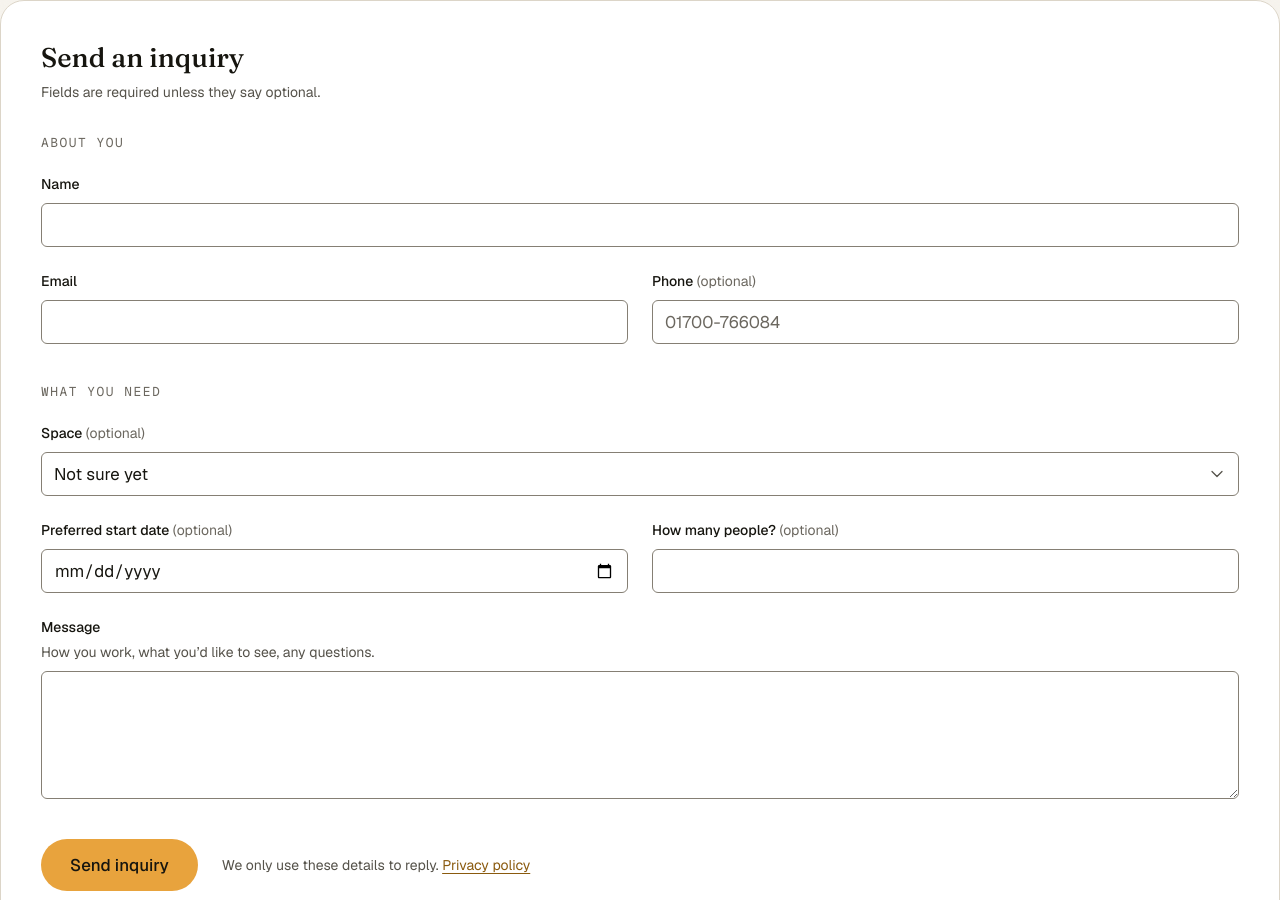
Scenario: InquiryCard › says to check the connection when the request itself fails
Type "Nadia Rahman" into the field labelled "Name" at (640, 225), box [41,203,1239,247]
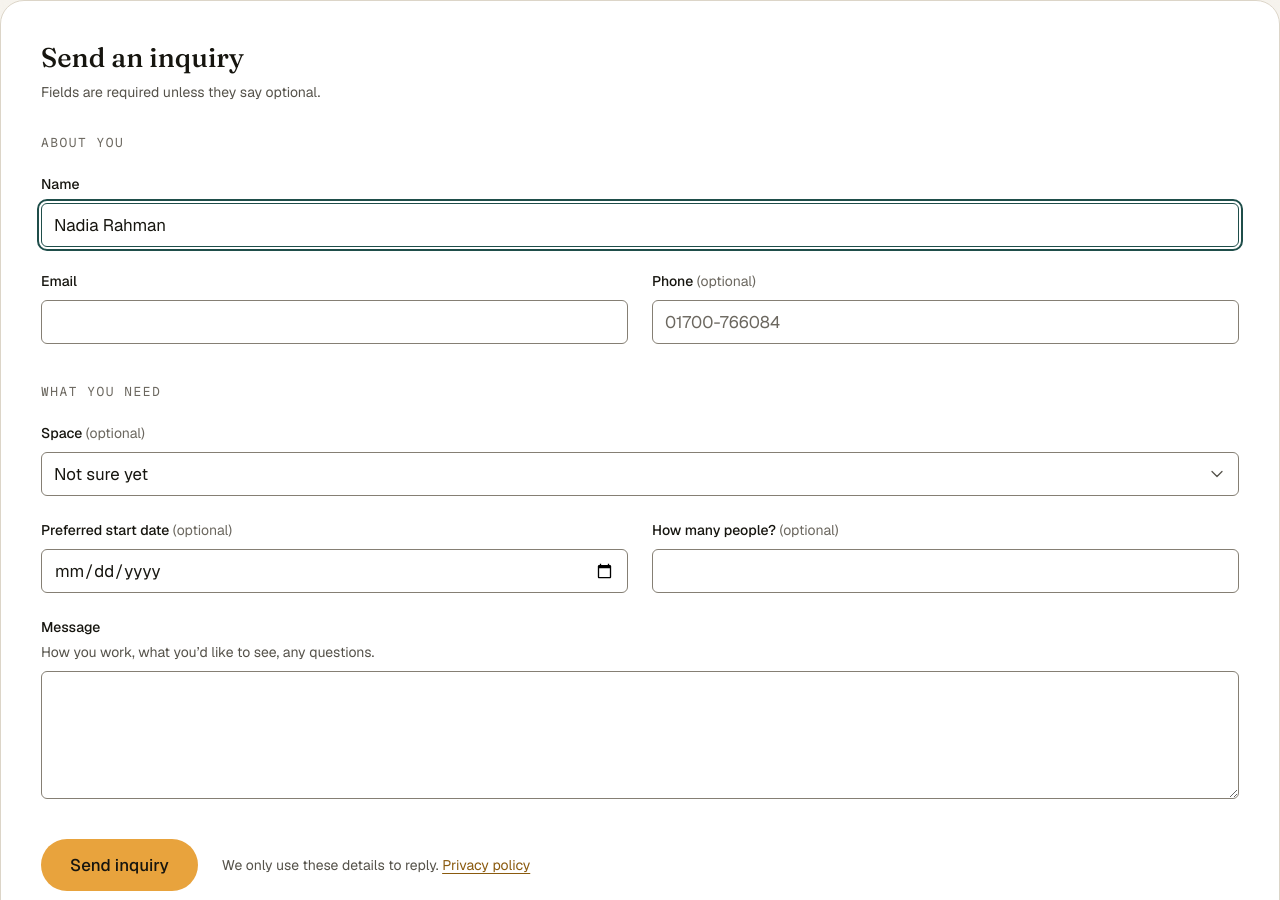
Type "nadia@example.com" into the field labelled "Email" at (334, 322), box [41,300,628,344]
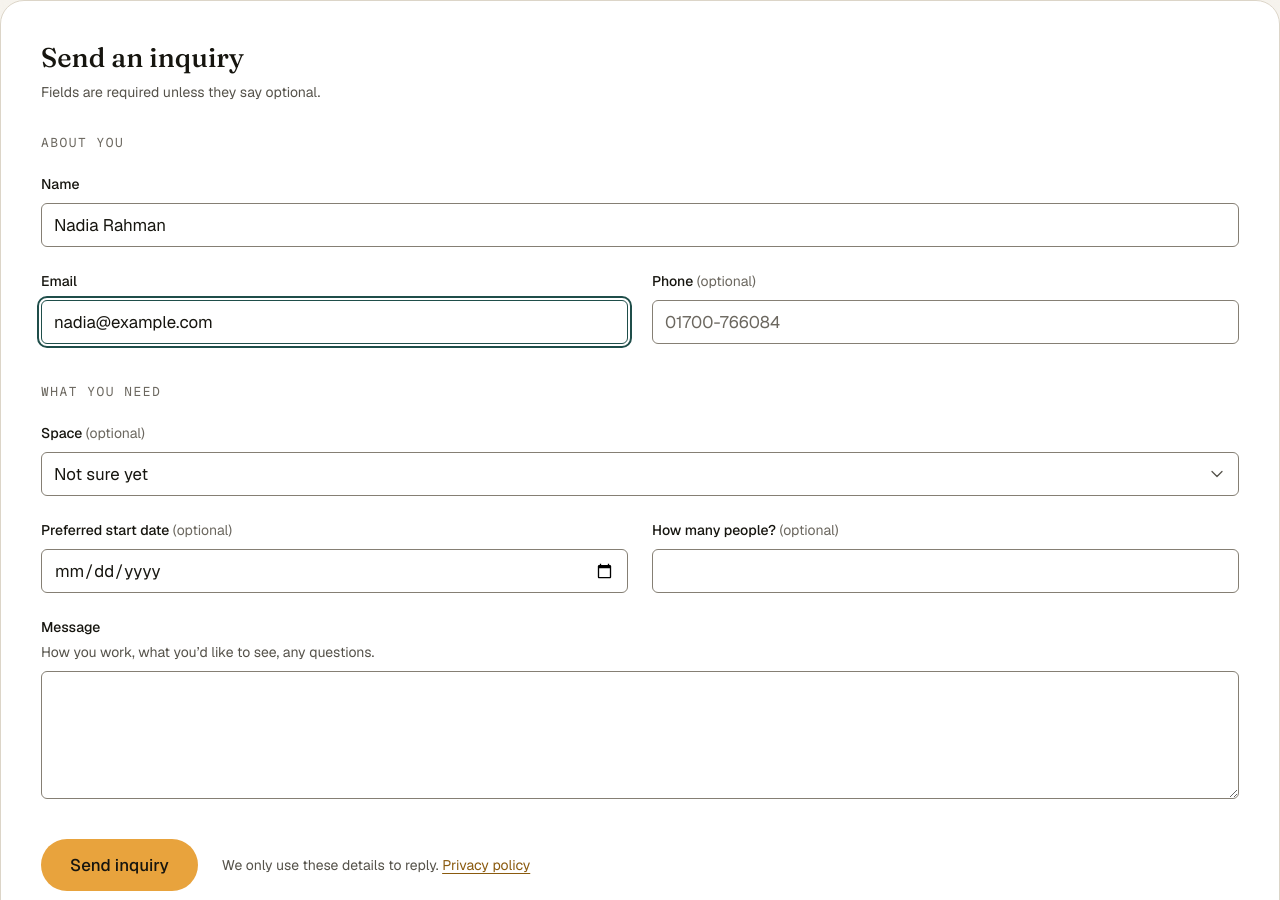
Type "Looking for a room on Monday." into the text box labelled "Message" at (640, 735), box [41,671,1239,799]
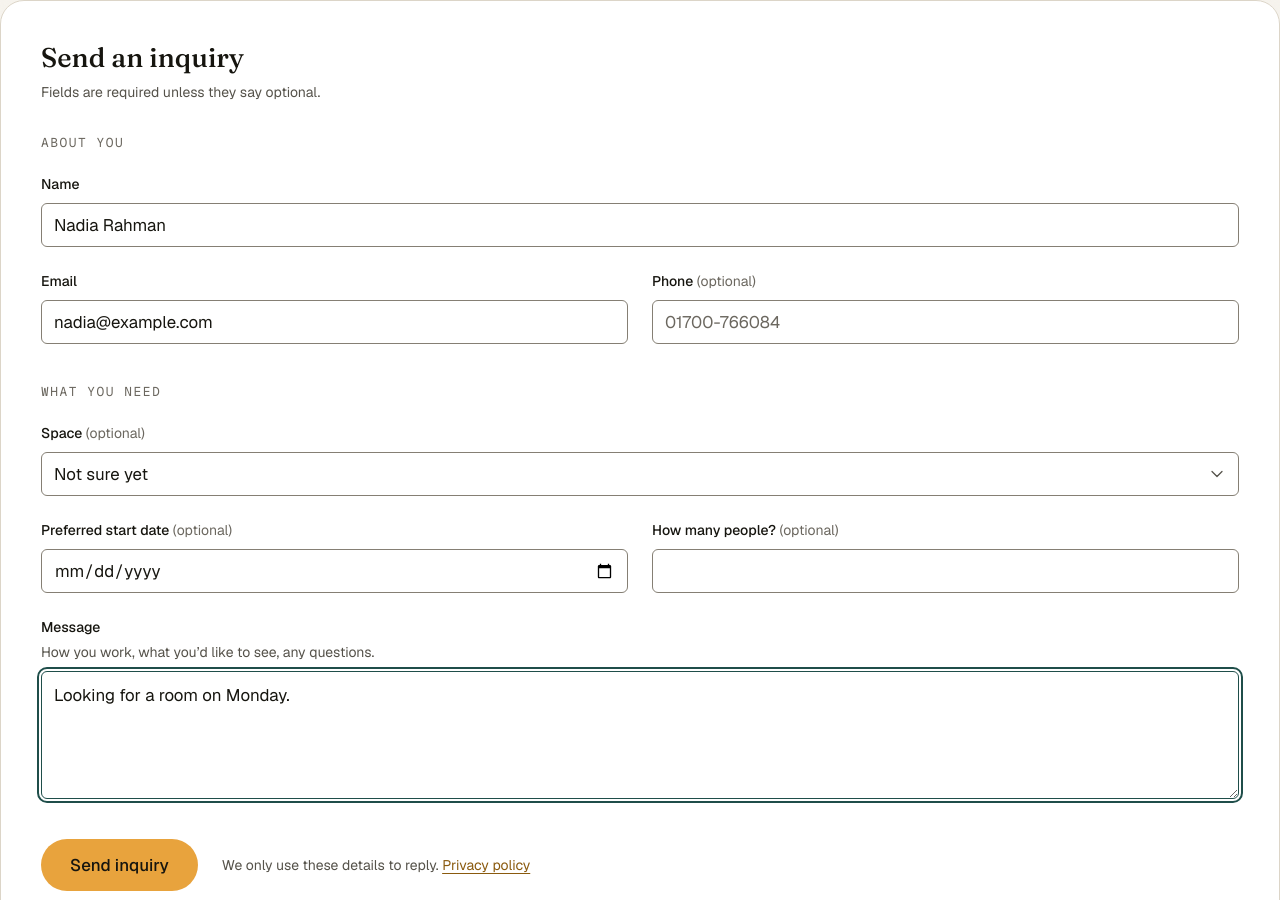
Click the button "Send inquiry" at (119, 865), box [41,839,198,891]
(page scrolled)
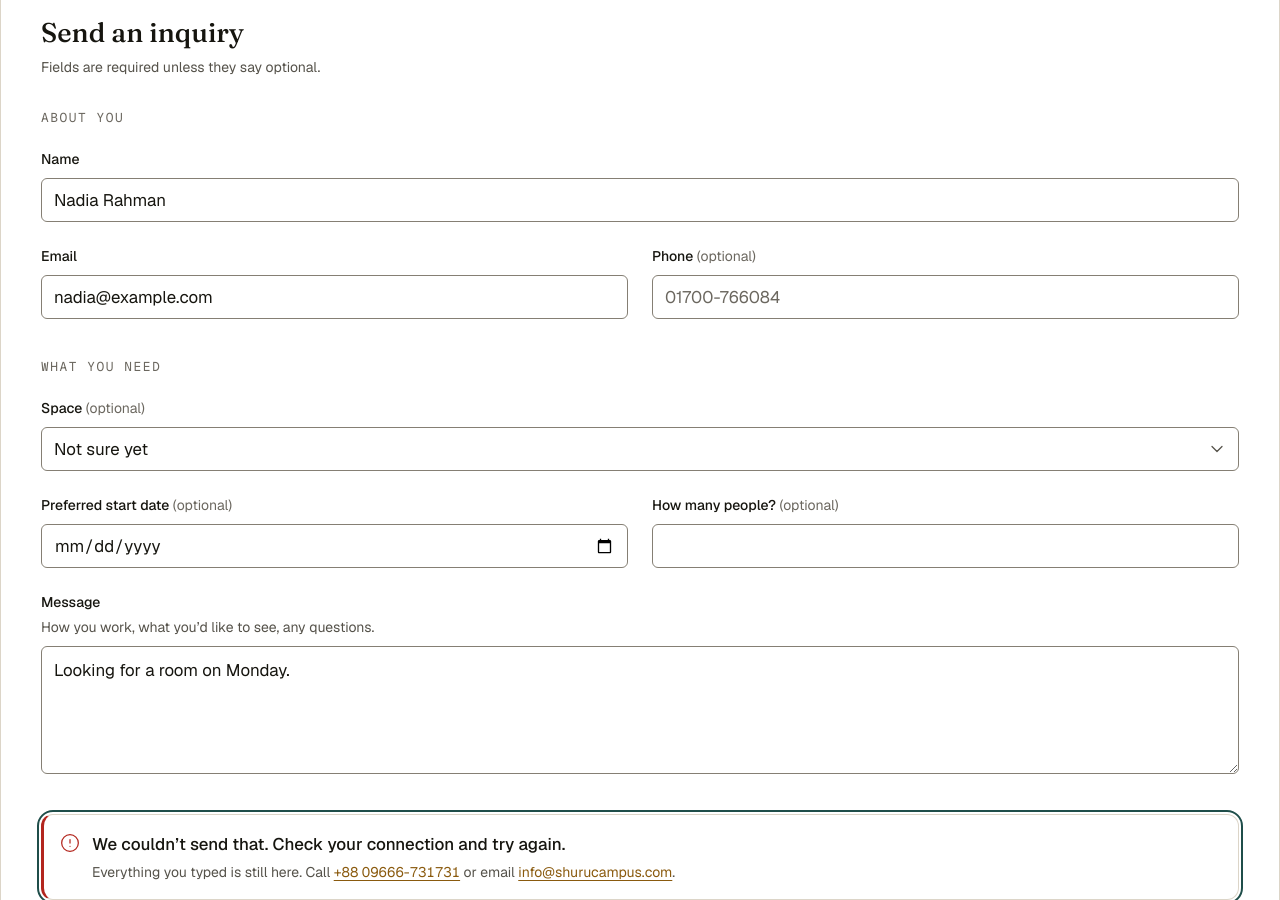
Result: the text "We couldn’t send that. Check your connection and try again." is shown at [92,833,565,855]
